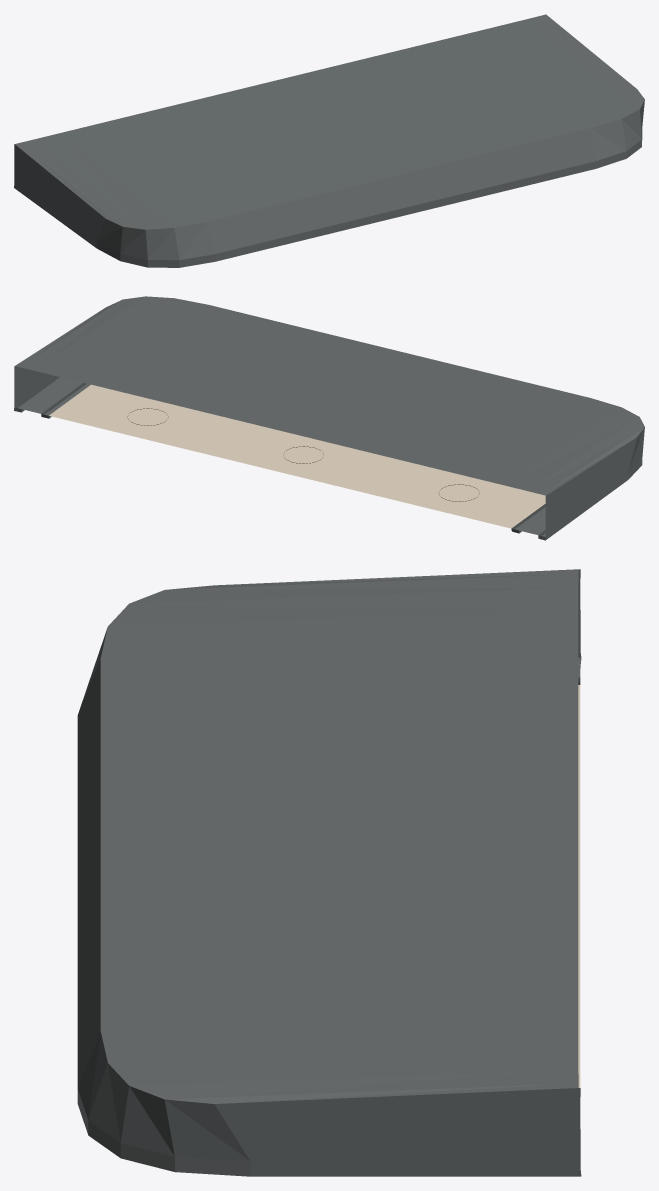
The model's file is SM_platform_showcase.fbx.
3 renders of one model, top to bottom at view 1: azimuth 30°, elevation 25°; view 2: azimuth 150°, elevation 25°; view 3: azimuth 270°, elevation 25°, orthographic. The views are drawn at different scales.
Parts seen in each view (by area): view 1: platform_showcase; view 2: platform_showcase; view 3: platform_showcase.
Part boxes in pixels (box(x1,y1,x2,y2)): platform_showcase: box(14, 14, 644, 267); platform_showcase: box(14, 296, 644, 540); platform_showcase: box(77, 569, 581, 1176).
Bounding box in the file's own units: 639 × 54.46 × 262.
